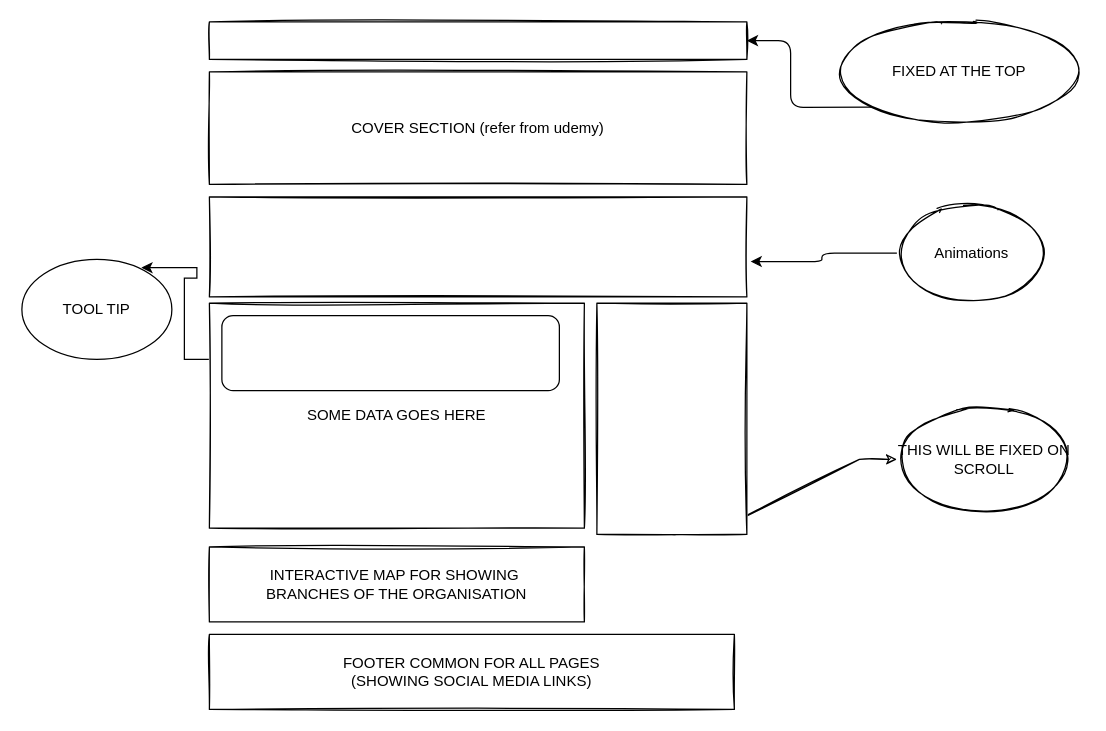
The diagram is 1106 pixels wide and 731 high, and some of its shapes have lost their labels. Each missing label, with the centre of its shape:
DATA SHOULD BE IN ZIG-ZAG MANNER: [390,352]
Hero Spot/Company tagline/identity (refer from coursera): [477,246]
NAVBAR: [477,40]
TRENDING NEWS (HIGHLIGHTING 3 TRENDING NEWS): [671,418]
